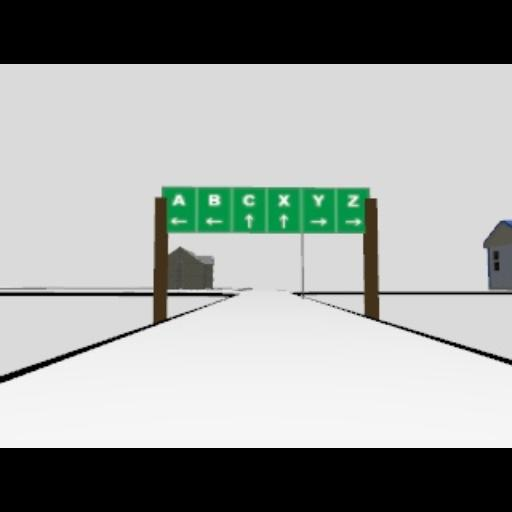A: (171, 193, 187, 207)
B: (208, 193, 222, 207)
C: (240, 192, 256, 208)
Left: (204, 217, 224, 227), (170, 216, 188, 226)
Right: (310, 217, 328, 227), (344, 218, 362, 226)
Straight: (244, 213, 254, 229), (279, 213, 289, 229)
X: (278, 192, 292, 208)
Y: (311, 194, 325, 208)
Z: (346, 192, 360, 208)
